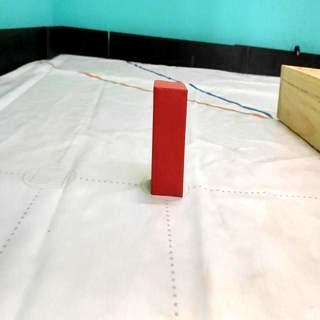redbox: (152, 78, 188, 198)
